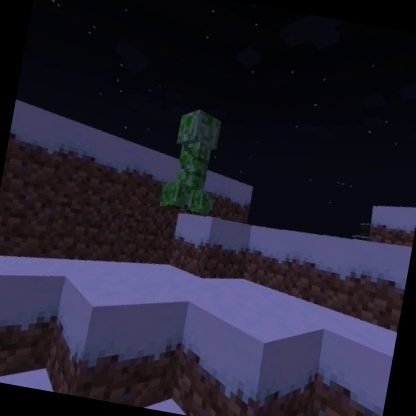creeper: (156, 104, 232, 220)
